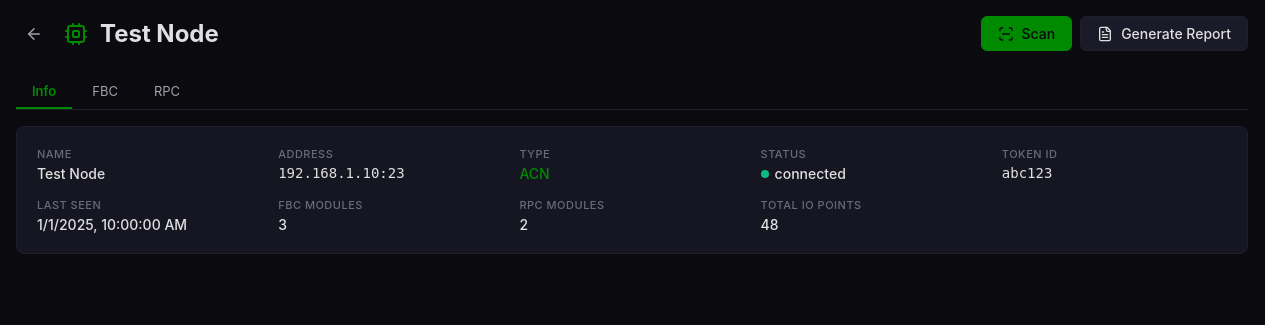
Test case: NodeDetail › shows scan error when scan POST fails
This screenshot has width=1265, height=325.
Expected: the heading "Test Node" is shown, [100,19,219,48]
Click the button "Scan" at (1026, 34), box [980,16,1072,51]
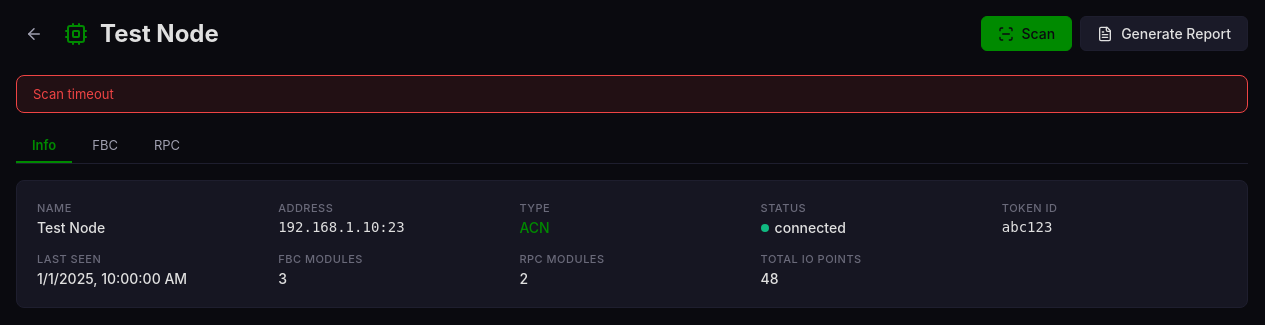
Result: the text "Scan timeout" is shown at [16,75,1248,113]
